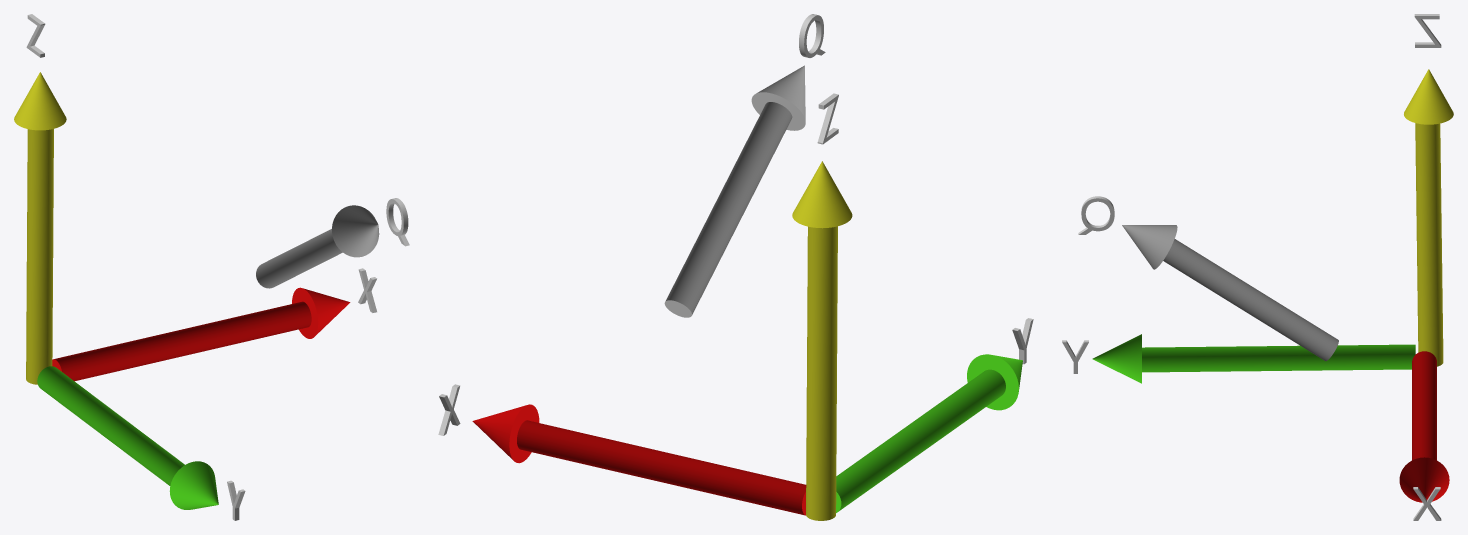
The picture shows the model from 3 angles, left to right: view 1: azimuth 30°, elevation 25°; view 2: azimuth 150°, elevation 25°; view 3: azimuth 270°, elevation 25°; orthographic projection. The views are drawn at different scales.
Visible parts, largest first — view 1: Cylinder, Cylinder.2, Cylinder.1, Cylinder.3, Cone.3, Cone.1, Cone.2, Cone; view 2: Cylinder, Cylinder.2, Cylinder.3, Cylinder.1, Cone.2, Cone, Cone.3, Cone.1; view 3: Cylinder.1, Cylinder.2, Cylinder.3, Cylinder, Cone, Cone.2, Cone.3, Cone.1, Cap:1.
Part boxes in pixels (x1=…): Cylinder: x1=52, y1=301, x2=311, y2=381; Cylinder.2: x1=26, y1=129, x2=53, y2=384; Cylinder.1: x1=37, y1=366, x2=184, y2=485; Cylinder.3: x1=256, y1=229, x2=342, y2=288; Cone.3: x1=332, y1=205, x2=379, y2=257; Cone.1: x1=169, y1=461, x2=218, y2=509; Cone.2: x1=14, y1=72, x2=66, y2=130; Cone: x1=292, y1=287, x2=350, y2=338; Cylinder: x1=517, y1=420, x2=806, y2=515; Cylinder.2: x1=806, y1=226, x2=837, y2=520; Cylinder.3: x1=664, y1=102, x2=792, y2=317; Cylinder.1: x1=836, y1=369, x2=1005, y2=512; Cone.2: x1=792, y1=161, x2=852, y2=228; Cone: x1=472, y1=404, x2=539, y2=463; Cone.3: x1=751, y1=65, x2=805, y2=130; Cone.1: x1=967, y1=354, x2=1022, y2=410; Cylinder.1: x1=1142, y1=344, x2=1415, y2=372; Cylinder.2: x1=1415, y1=123, x2=1443, y2=366; Cylinder.3: x1=1163, y1=239, x2=1338, y2=361; Cylinder: x1=1412, y1=351, x2=1436, y2=460; Cone: x1=1399, y1=457, x2=1449, y2=502; Cone.2: x1=1404, y1=69, x2=1453, y2=124; Cone.3: x1=1122, y1=225, x2=1177, y2=269; Cone.1: x1=1092, y1=334, x2=1141, y2=383; Cap:1: x1=1079, y1=198, x2=1114, y2=234.
Size of the model in its own units: 0.1543 by 0.1603 by 0.1565.
